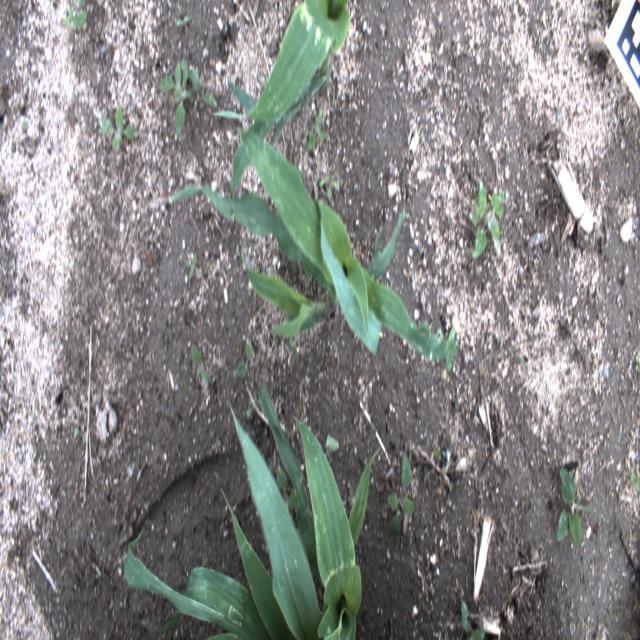crop: (169, 130, 455, 365), (122, 379, 380, 639), (224, 1, 350, 187)
weed: (158, 55, 201, 138), (470, 186, 507, 262), (386, 451, 416, 539), (555, 465, 583, 550), (98, 102, 140, 152), (201, 88, 245, 118), (189, 343, 212, 385), (305, 106, 325, 154), (59, 0, 88, 33), (460, 603, 485, 639), (235, 341, 254, 380), (313, 174, 342, 199), (184, 250, 199, 280), (72, 423, 85, 442), (629, 474, 640, 492), (634, 352, 640, 374)
